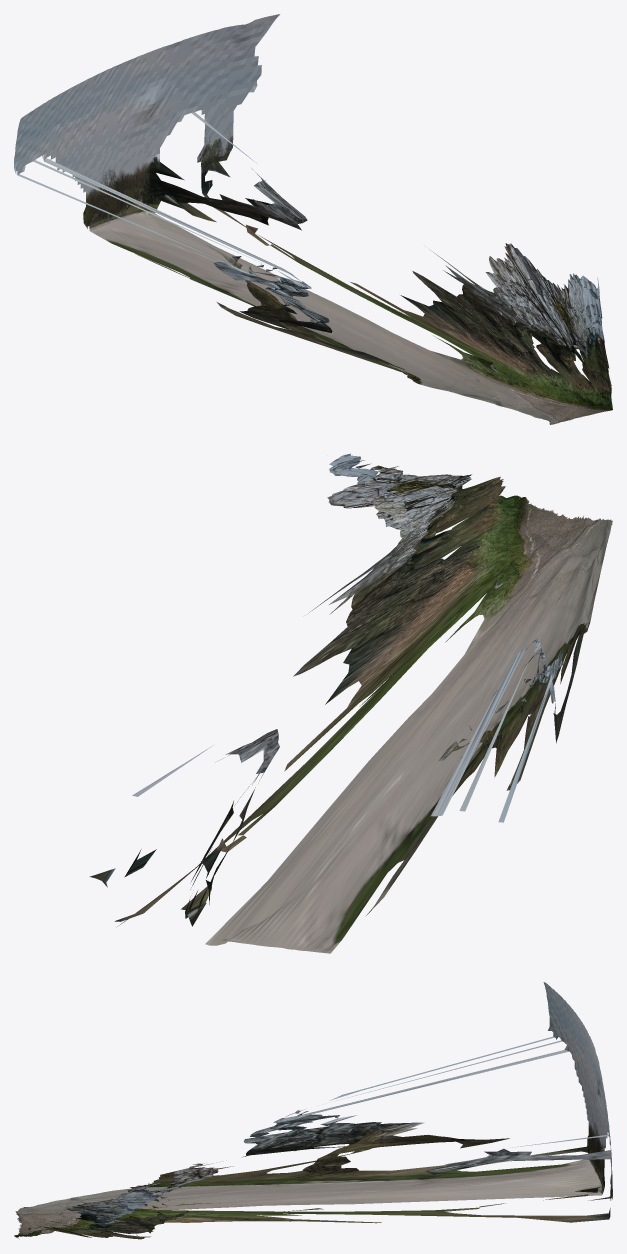
3 renders of one model, top to bottom at view 1: azimuth 30°, elevation 25°; view 2: azimuth 150°, elevation 25°; view 3: azimuth 270°, elevation 25°, orthographic. The views are drawn at different scales.
Parts seen in each view (by area): view 1: defaultobject; view 2: defaultobject; view 3: defaultobject.
Part boxes in pixels (x1,y1,x2,y2): defaultobject: (14, 14, 612, 424); defaultobject: (89, 453, 612, 953); defaultobject: (14, 982, 612, 1239).
Bounding box in the file's own units: 27.18 × 12.63 × 44.75.
1 material, 1 textured.
